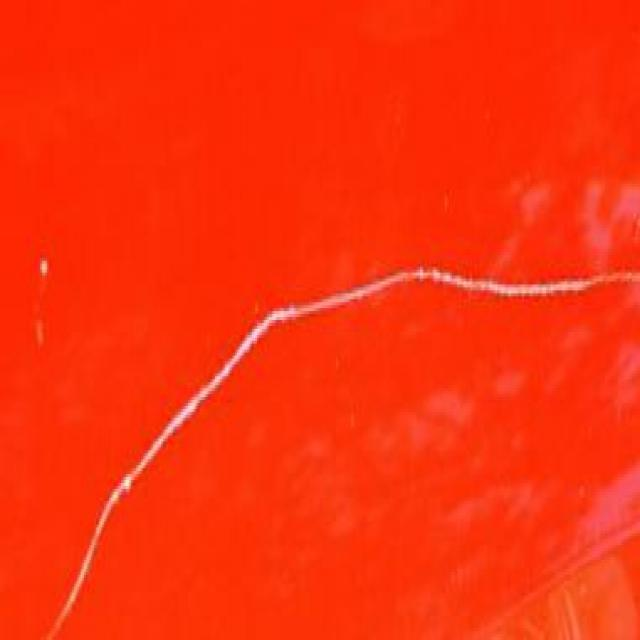scratch: (41, 243, 634, 640)
